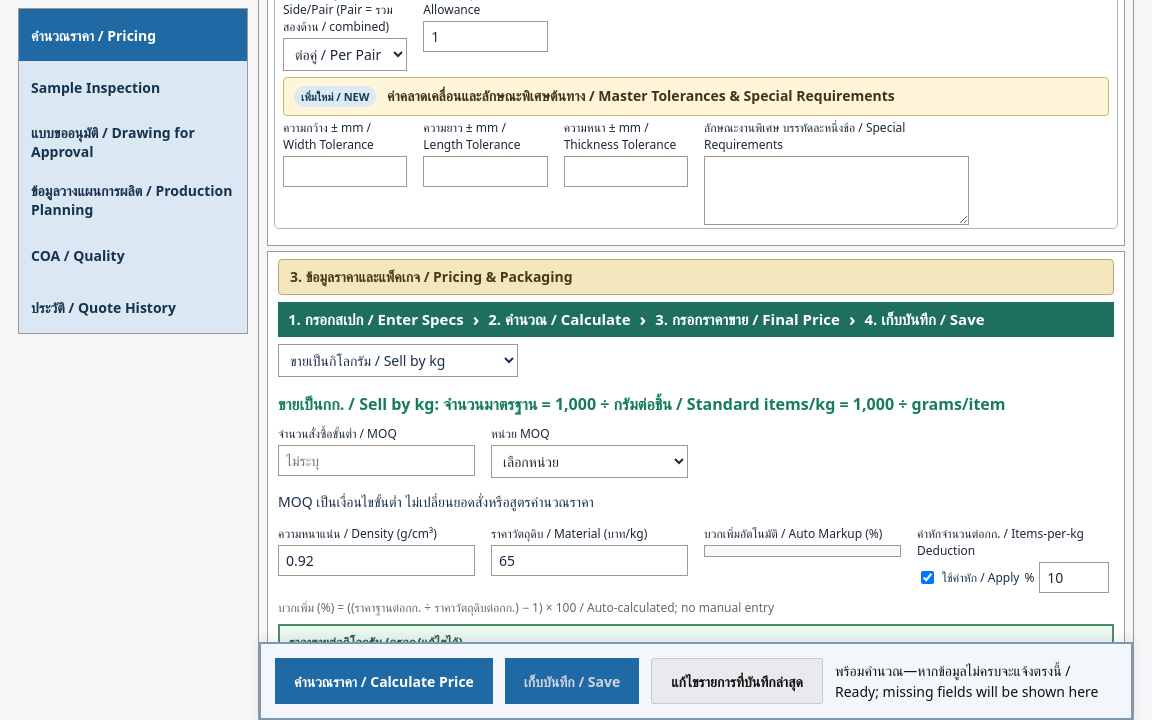
it: the price boxes and the sale basis › sellingByPiece_drawsAllThree_andTheKgBoxBecomesTheBasis
This screenshot has width=1152, height=720.
(page scrolled)
Select "ขายเป็นชิ้น / Sell by piece" in the dropdown with class "desk-basis". click: (398, 361)
box: [278,344,518,377]
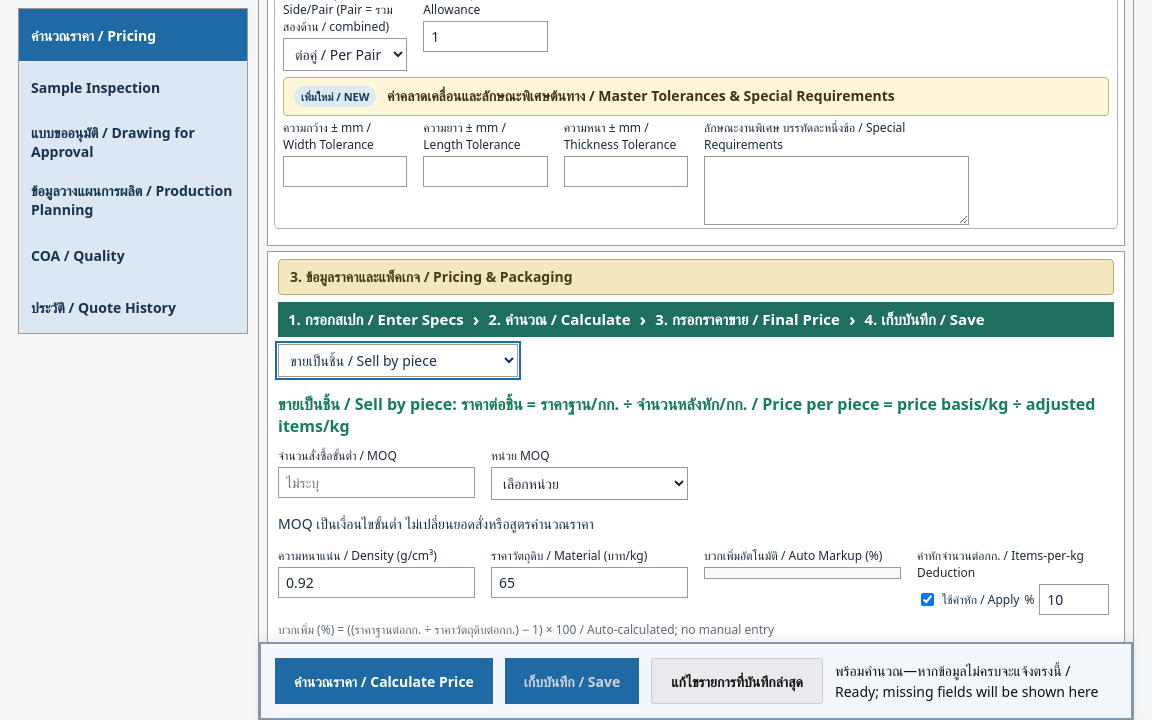
Expected: the text "Calculated price per piece (Read-only)" is shown, [289,655,533,691]
Now the text "Final selling price per kg (Editable)" is gone
